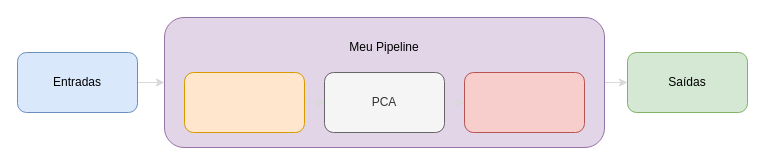
Some shapes in this 765 by 165 pixel diagram are drawn without their labels. Each missing label, with the centre of its shape:
Classifier: the point at 524,102
Scaler: the point at 244,102
